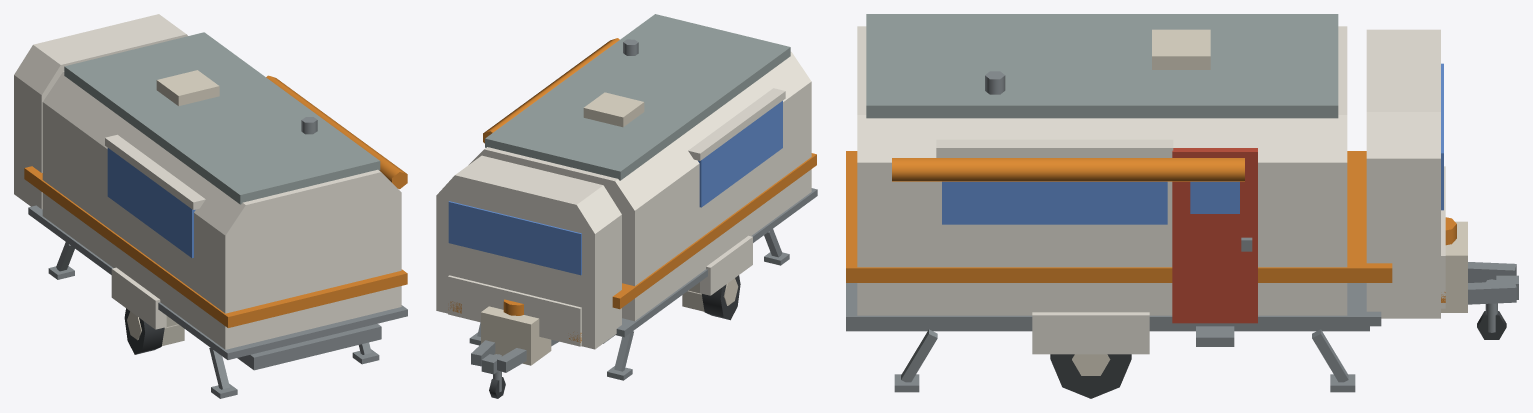
File: caravane.glb
3 renders of one model, left to right at view 1: azimuth 30°, elevation 25°; view 2: azimuth 150°, elevation 25°; view 3: azimuth 270°, elevation 25°, orthographic. The views are drawn at different scales.
Visible parts, largest first — view 1: caisse, toit, nez, bande-laterale, vitres-bandeau, jupe, chassis, vitres-casquette, passage-roue-0, lanterneau, auvent-replie, roue-gauche-pneu (+2 smaller); view 2: toit, caisse, nez, vitre-avant, nez-tablier, vitres-bandeau, bande-laterale, coffre-gaz, vitres-casquette, passage-roue-0, jupe, lanterneau (+6 smaller); view 3: caisse, toit, nez, porte, bande-laterale, vitres-bandeau, auvent-replie, jupe, passage-roue-1, vitres-casquette, lanterneau, chassis (+9 smaller).
Boxes of the visible parts, x1=… form: caisse: x1=42, y1=71, x2=401, y2=349; toit: x1=64, y1=32, x2=380, y2=204; nez: x1=14, y1=14, x2=187, y2=209; bande-laterale: x1=24, y1=166, x2=407, y2=327; vitres-bandeau: x1=107, y1=148, x2=195, y2=257; jupe: x1=28, y1=205, x2=407, y2=359; chassis: x1=237, y1=323, x2=381, y2=370; vitres-casquette: x1=105, y1=134, x2=205, y2=209; passage-roue-0: x1=111, y1=267, x2=166, y2=329; lanterneau: x1=156, y1=70, x2=219, y2=106; auvent-replie: x1=266, y1=75, x2=407, y2=189; roue-gauche-pneu: x1=124, y1=308, x2=164, y2=354; toit: x1=485, y1=14, x2=790, y2=180; caisse: x1=469, y1=52, x2=811, y2=321; nez: x1=436, y1=155, x2=621, y2=349; vitre-avant: x1=448, y1=201, x2=581, y2=275; nez-tablier: x1=448, y1=275, x2=581, y2=346; vitres-bandeau: x1=698, y1=101, x2=782, y2=207; bande-laterale: x1=612, y1=153, x2=816, y2=309; coffre-gaz: x1=481, y1=306, x2=551, y2=365; vitres-casquette: x1=688, y1=88, x2=785, y2=160; passage-roue-0: x1=700, y1=235, x2=752, y2=295; jupe: x1=615, y1=188, x2=817, y2=337; lanterneau: x1=583, y1=92, x2=644, y2=127; caisse: x1=857, y1=26, x2=1347, y2=315; toit: x1=866, y1=14, x2=1338, y2=118; nez: x1=1366, y1=29, x2=1440, y2=318; porte: x1=1172, y1=148, x2=1257, y2=323; bande-laterale: x1=846, y1=151, x2=1392, y2=282; vitres-bandeau: x1=942, y1=181, x2=1167, y2=224; auvent-replie: x1=892, y1=158, x2=1244, y2=181; jupe: x1=846, y1=283, x2=1381, y2=326; passage-roue-1: x1=1032, y1=312, x2=1149, y2=354; vitres-casquette: x1=936, y1=139, x2=1173, y2=157; lanterneau: x1=1152, y1=29, x2=1210, y2=69; chassis: x1=846, y1=326, x2=1369, y2=331.
Bounding box in the file's own units: 0.115 × 0.125 × 0.25.
